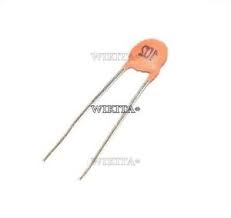ceramic capacitor: (112, 31, 168, 106)
